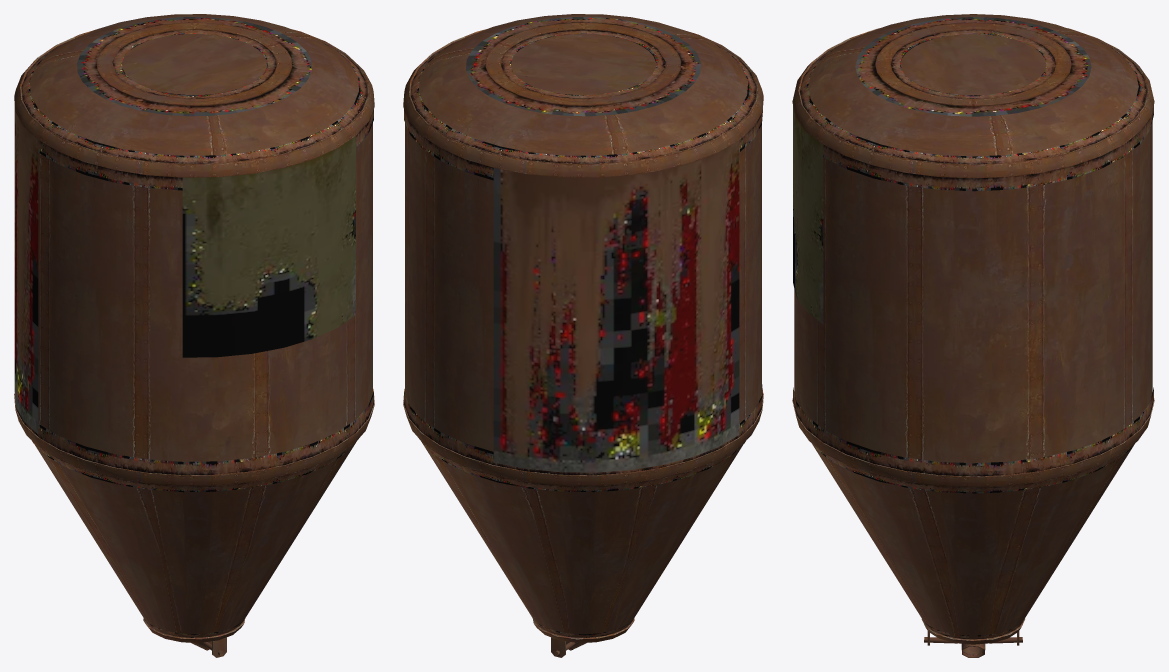
Rendered from silo_c.glb.
The picture shows the model from 3 angles, left to right: view 1: azimuth 30°, elevation 25°; view 2: azimuth 150°, elevation 25°; view 3: azimuth 270°, elevation 25°; orthographic projection.
Visible parts, largest first — view 1: silo_c_LOD0; view 2: silo_c_LOD0; view 3: silo_c_LOD0.
Boxes of the visible parts, bbox=[...] form: silo_c_LOD0: bbox=[14, 14, 374, 657]; silo_c_LOD0: bbox=[403, 14, 763, 657]; silo_c_LOD0: bbox=[792, 14, 1154, 657].
Size of the model in its own units: 4.55 by 8.16 by 4.55.
3 materials, 3 textured.
